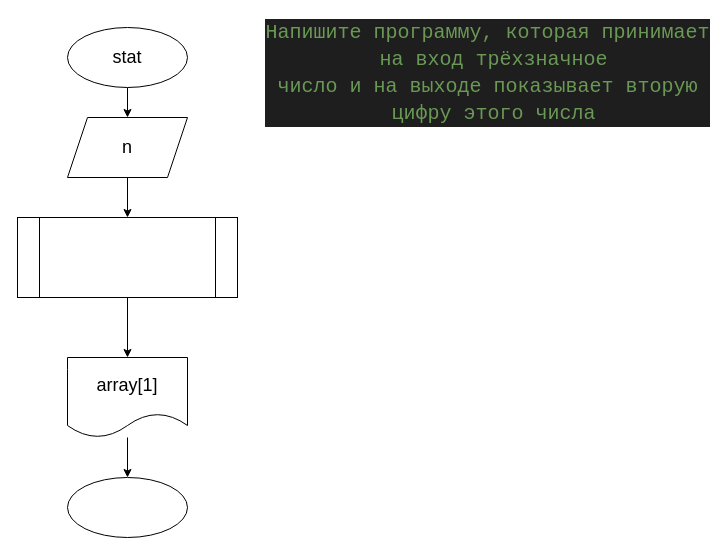
Image size: 727x555. Some labels were removed from this diagram. Here are the shapes that lost their labels. From the top down, the centre of each, then its label:
pixel 127 257: char[ ] array = n.ToCharArray()
pixel 127 507: end
